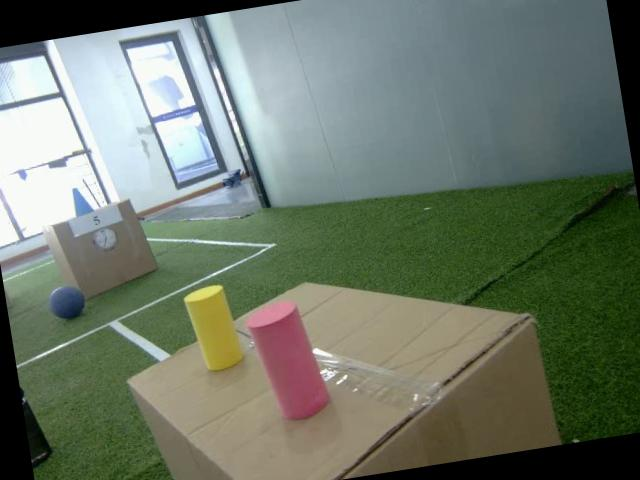red_cylinder: (244, 297, 334, 424)
yellow_cylinder: (182, 280, 248, 376)
